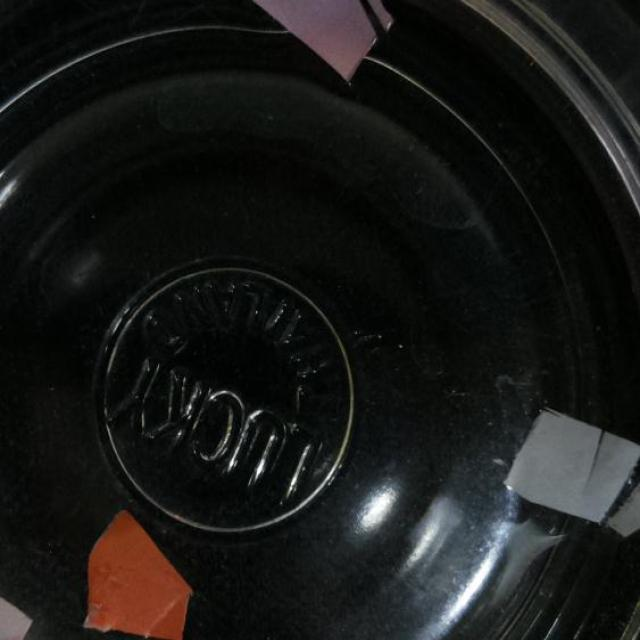fiber: (503, 399, 639, 539), (69, 504, 197, 639), (252, 0, 397, 85), (609, 454, 639, 544)
